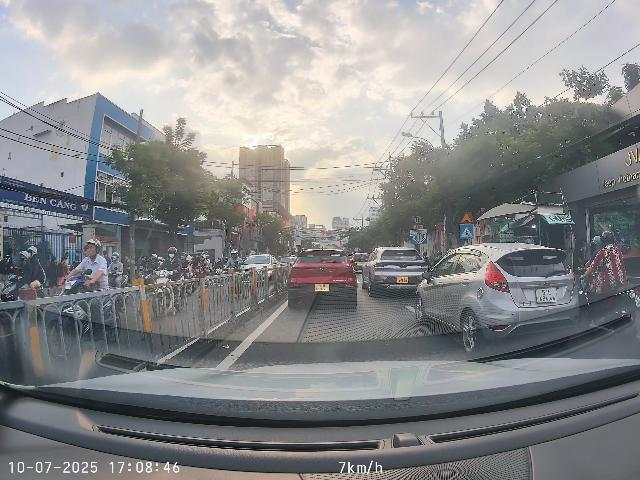124b-cam-oto-quay-dau-xe: (413, 215, 423, 224)
221-duong-go-ghe: (460, 211, 473, 224)
423a-duong-nguoi-di-bo-sang-ngang-1: (460, 224, 474, 239)
